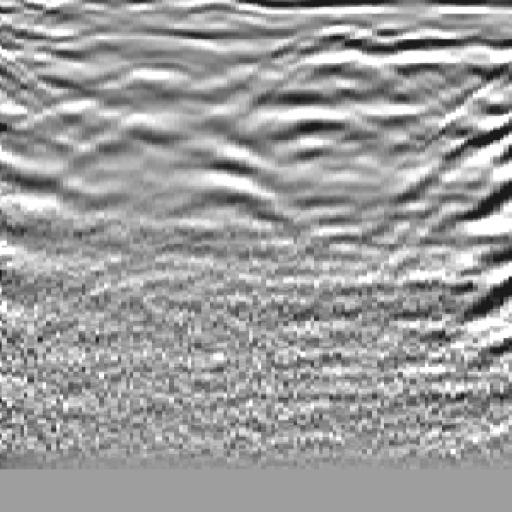metalic: (146, 45, 295, 277)
nonmetalic: (345, 41, 512, 266)
